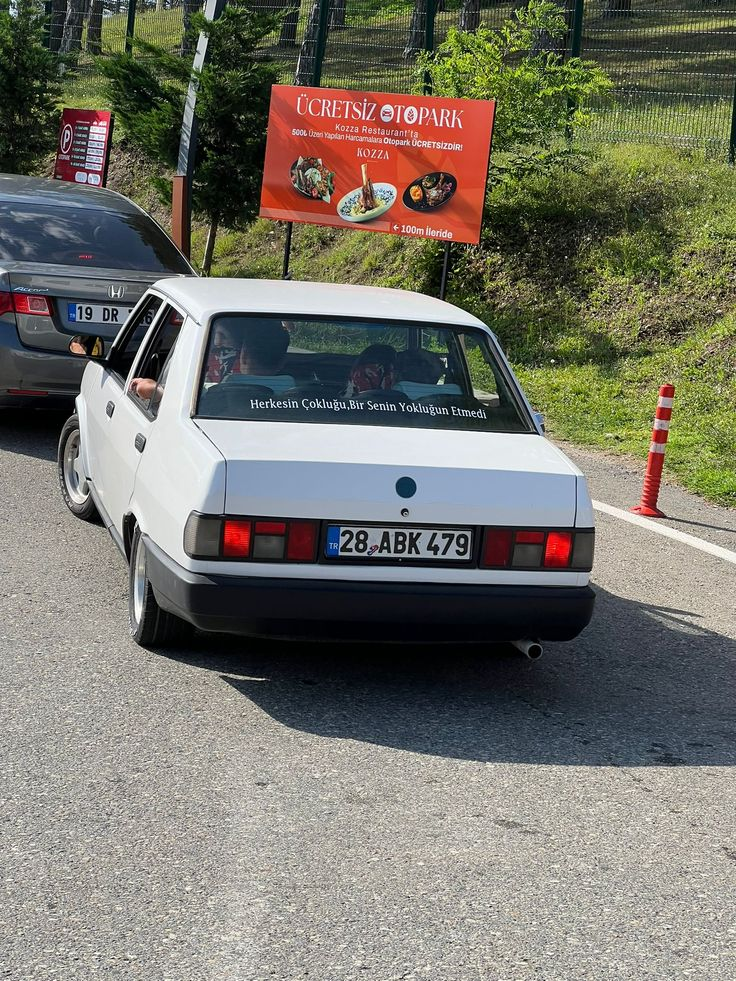plate: (327, 527, 477, 557)
